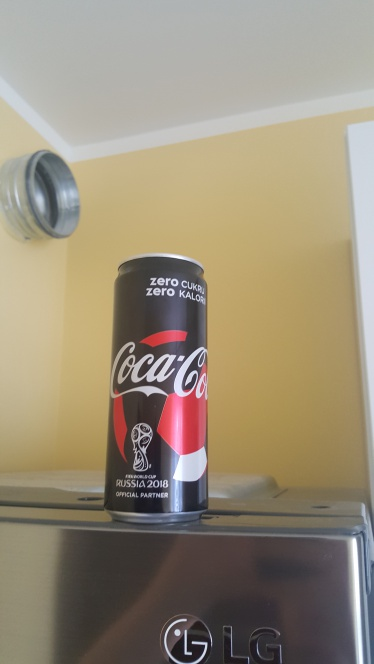colazero: (98, 247, 230, 535)
